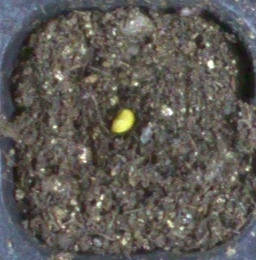pepper seed: (41, 41, 178, 175)
